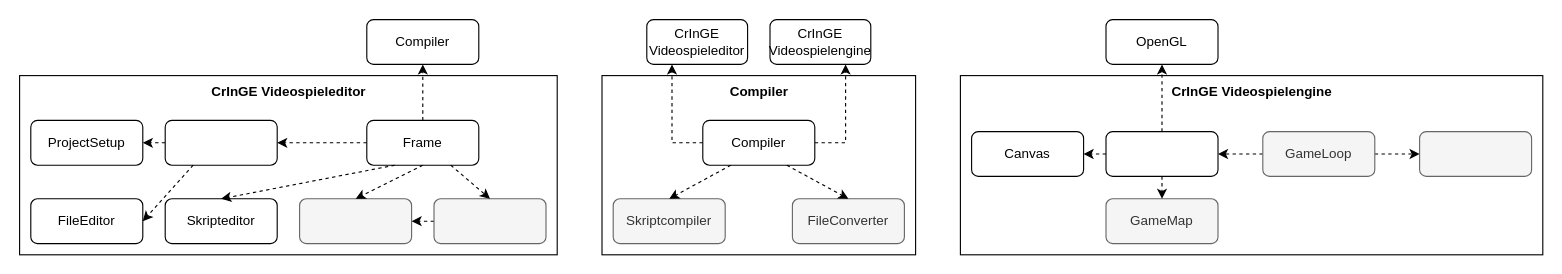
Some shapes in this 1562 by 274 pixel diagram are drawn without their labels. Here are the shapes that lost their labels. From the top down, the centre of each, then its label:
point (220, 142): ProjectManager
point (1161, 153): Renderer-Manager
point (1475, 153): EventManager
point (355, 221): Objectinspector
point (489, 221): Welteneditor
